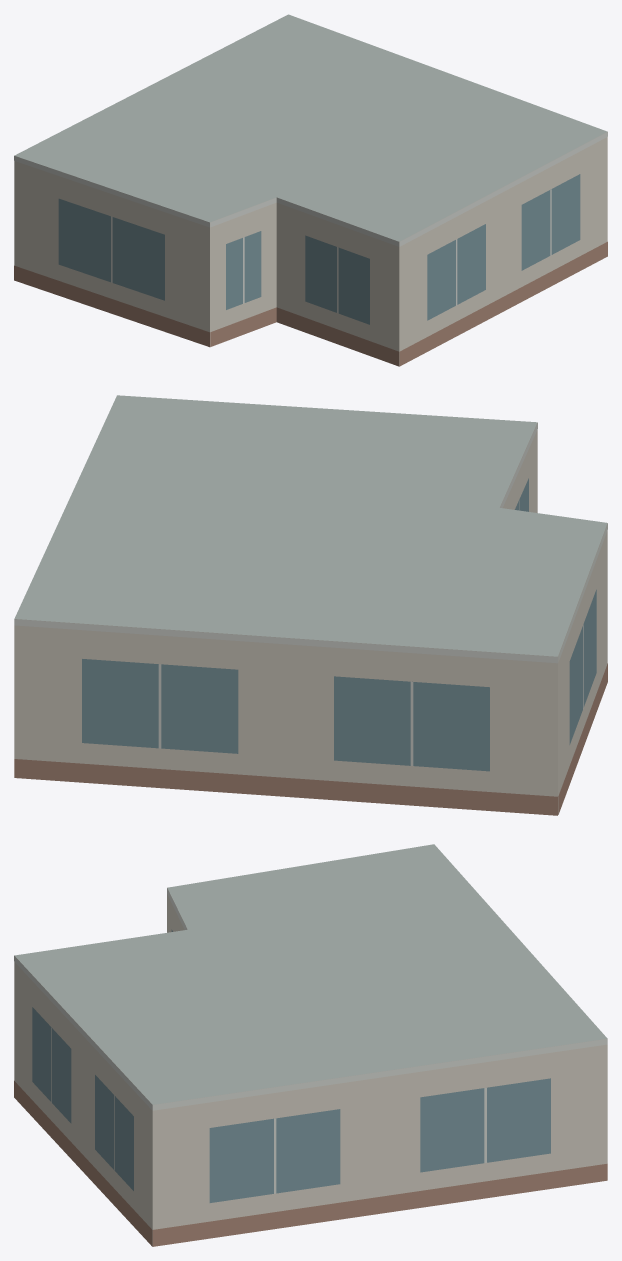
The model's file is survey-upis-32624714.glb.
3 views of the same model, one above another, from view 1: azimuth 30°, elevation 25°; view 2: azimuth 150°, elevation 25°; view 3: azimuth 270°, elevation 25° (orthographic). The views are drawn at different scales.
Visible parts, largest first — view 1: survey-upis-32624714.tmp; view 2: survey-upis-32624714.tmp; view 3: survey-upis-32624714.tmp.
Boxes of the visible parts, x1,y1,x2,y2 form: survey-upis-32624714.tmp: (14, 14, 607, 366); survey-upis-32624714.tmp: (14, 395, 607, 815); survey-upis-32624714.tmp: (14, 844, 607, 1246).
Bounding box in the file's own units: 12.04 × 3.05 × 11.58.
